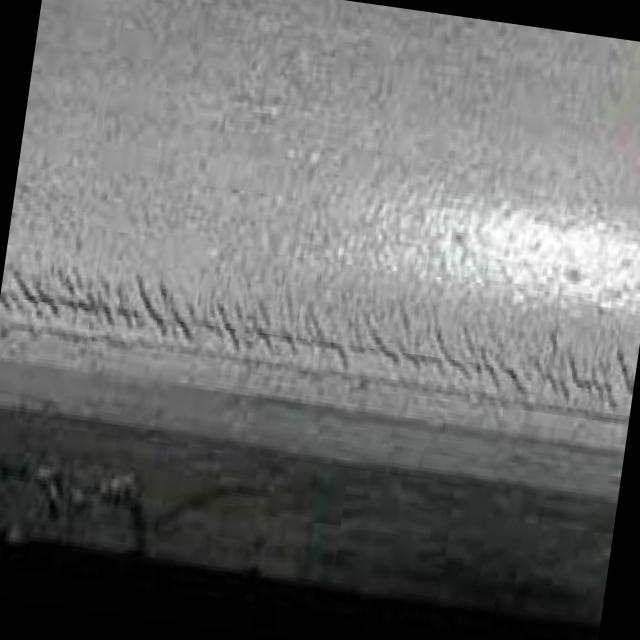defective: (0, 142, 640, 603)
